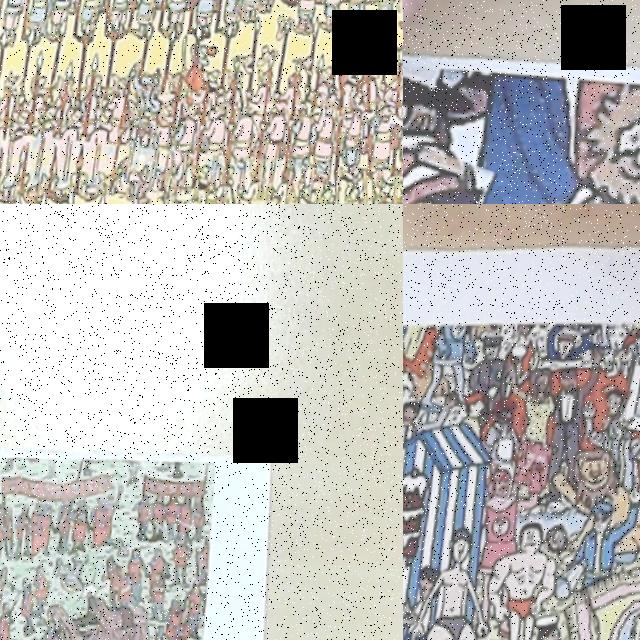waldo: (403, 140, 497, 204), (601, 380, 637, 418), (0, 621, 10, 640)
